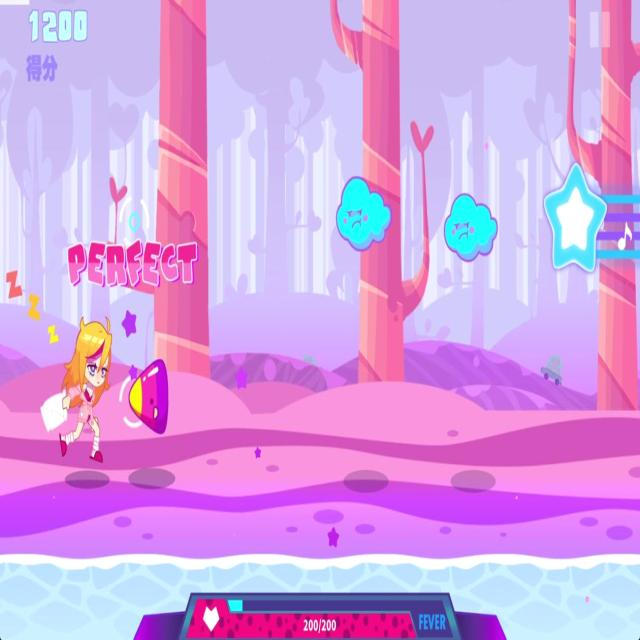hold: (539, 160, 640, 278)
jian: (128, 356, 172, 437)
yun: (441, 187, 502, 264), (338, 171, 392, 252)
